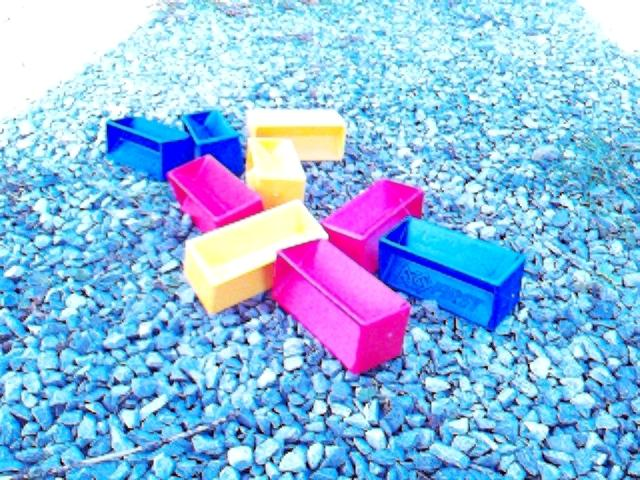blue: (377, 215, 527, 332), (105, 115, 194, 182), (181, 109, 245, 177)
red: (271, 238, 412, 375), (320, 178, 425, 275), (166, 154, 265, 233)
yellow: (184, 199, 329, 316), (246, 108, 347, 162), (245, 137, 307, 210)
